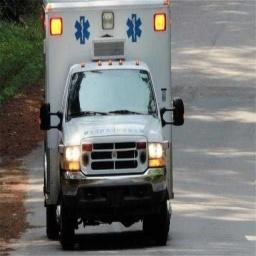ambulance: (40, 0, 183, 248)
